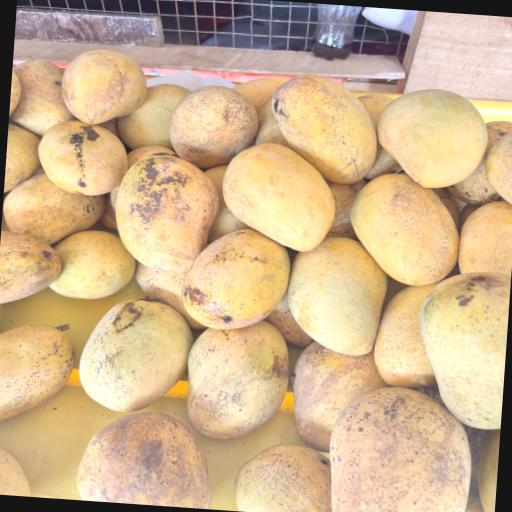fruit: (394, 250, 512, 434), (325, 373, 475, 512), (168, 309, 294, 446), (70, 281, 195, 415), (74, 388, 212, 509), (278, 322, 392, 460), (344, 162, 463, 294), (264, 69, 386, 192), (220, 136, 344, 256), (284, 320, 386, 456), (274, 234, 392, 351), (175, 227, 293, 340), (372, 81, 488, 195), (354, 274, 448, 392), (121, 154, 214, 270), (219, 428, 339, 512), (0, 313, 77, 442), (152, 76, 252, 168), (49, 209, 135, 314), (10, 159, 102, 246), (42, 107, 124, 198), (64, 38, 144, 128), (336, 81, 400, 182), (116, 70, 190, 154), (0, 214, 63, 311), (135, 249, 208, 329), (249, 280, 323, 356), (457, 112, 512, 202), (453, 199, 512, 282), (14, 55, 76, 131), (0, 430, 50, 498), (226, 63, 286, 116), (482, 116, 512, 211), (4, 118, 40, 195), (90, 191, 124, 232), (9, 52, 27, 118)
